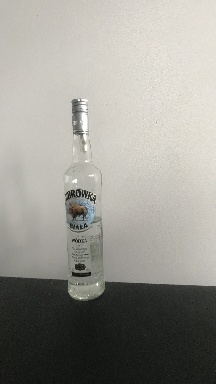butelka: (61, 95, 106, 304)
